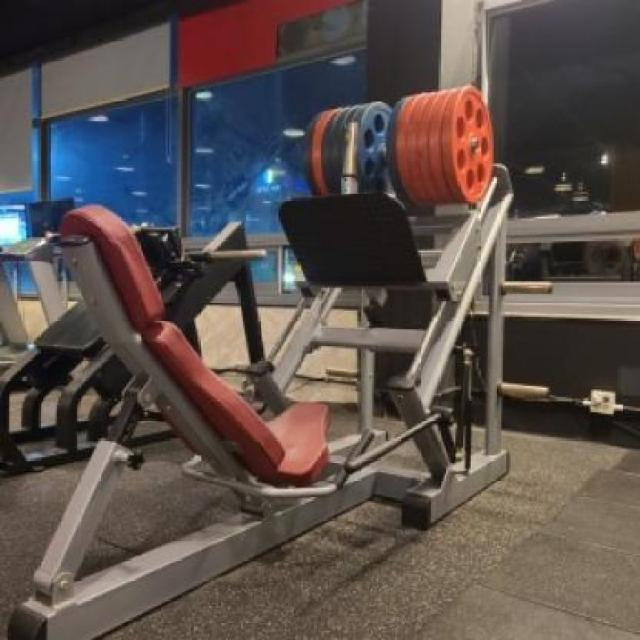leg press: (0, 81, 563, 640)
